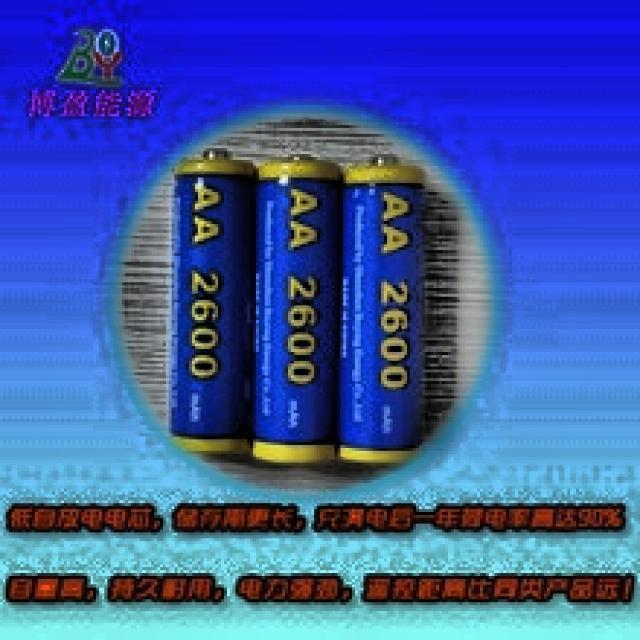battery: (252, 156, 341, 463), (170, 150, 255, 453), (339, 160, 422, 462)
